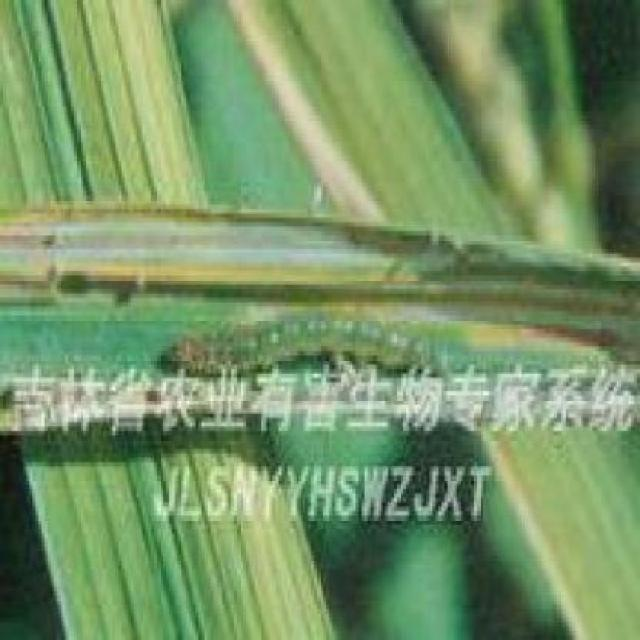leaf-folder: (128, 272, 498, 431)
